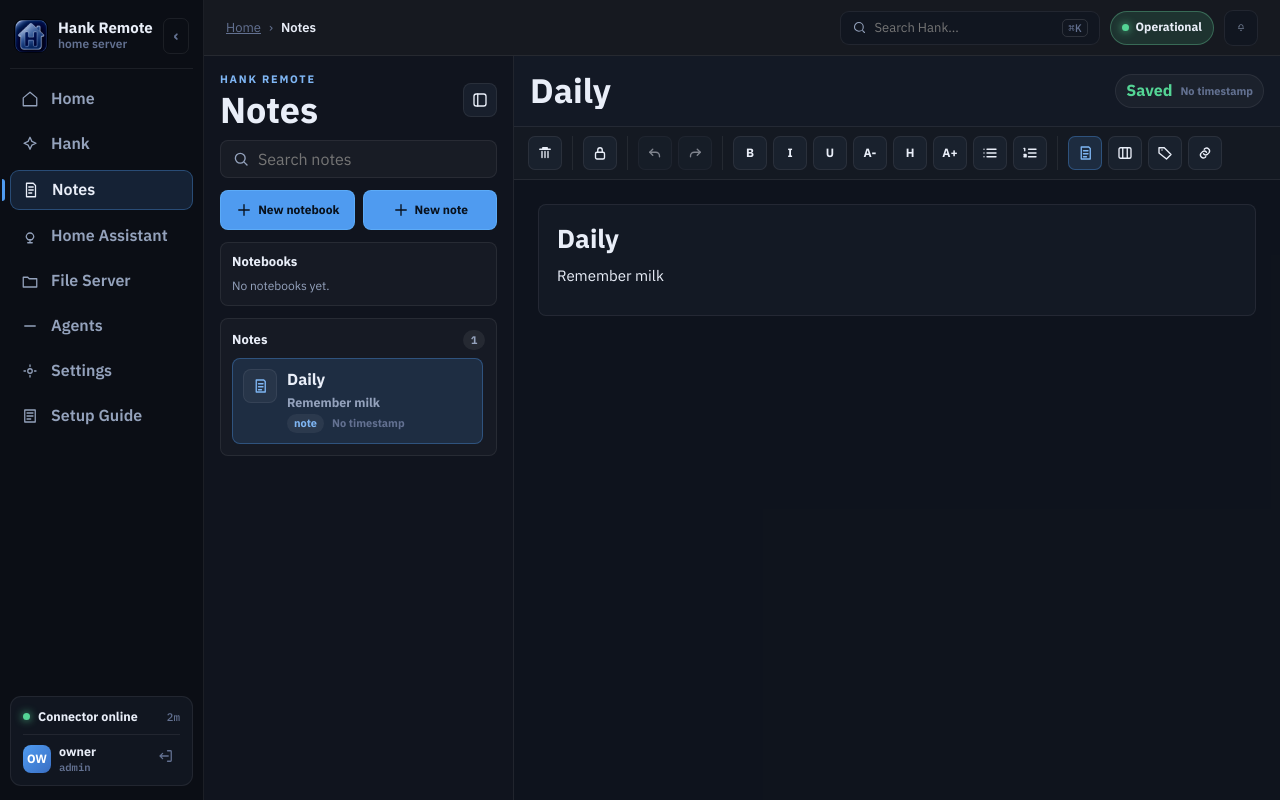
Test: App routes › keeps visited dashboard tabs mounted so returning does not reload the page
Check: the field showing "Daily" is shown, box [530,70,1105,112]
Click the link "Setup Guide". click: (81, 415)
box: [20,405,142,425]
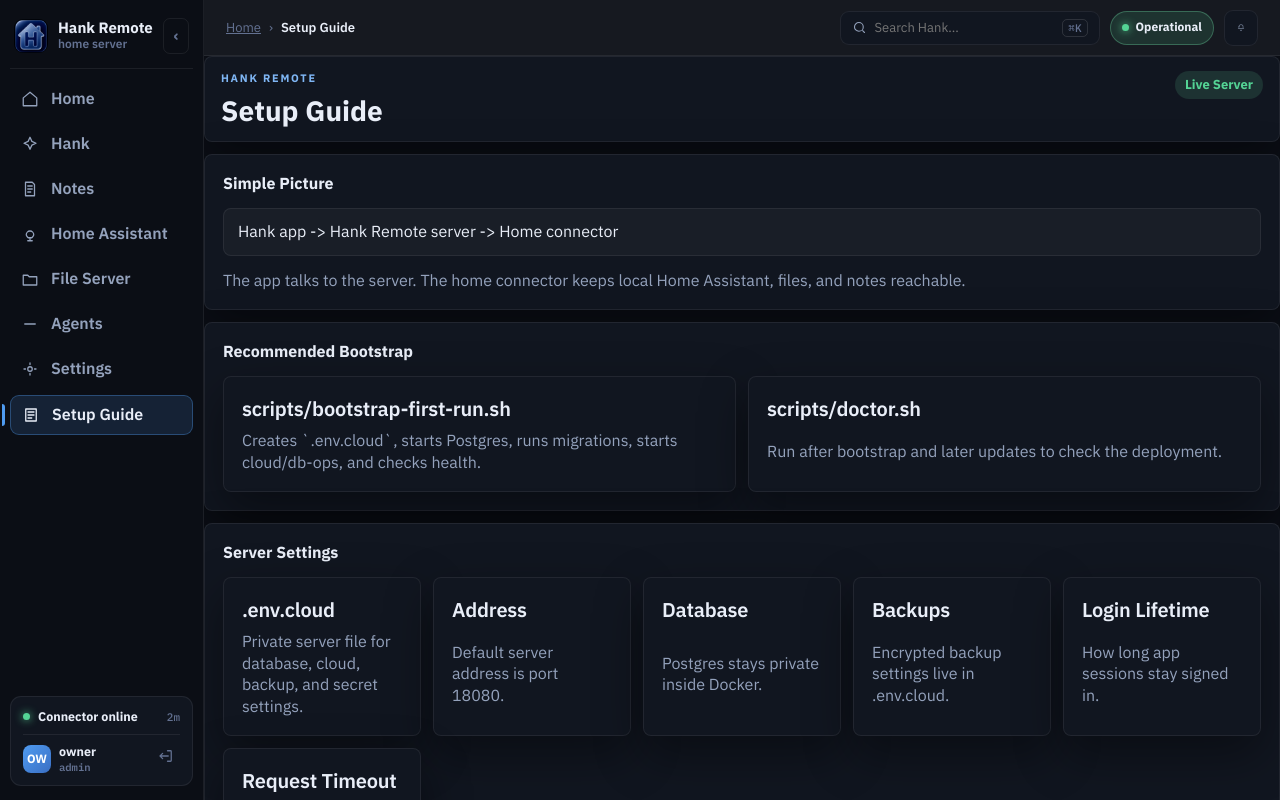
Check: the heading "Setup Guide" is shown, box [221,94,383,127]
Click the link "Notes". click: (57, 188)
box: [20,178,94,198]
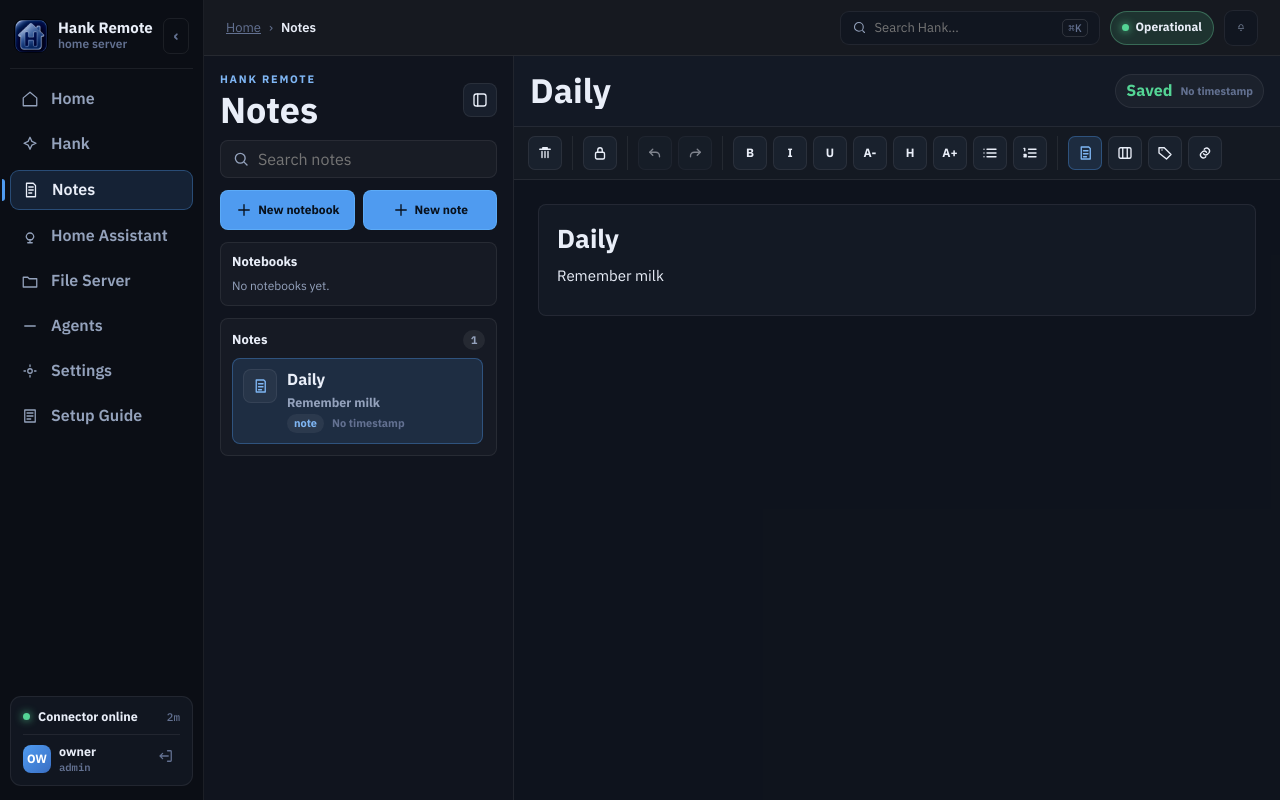
Check: the field showing "Daily" is shown, box [530,70,1105,112]
